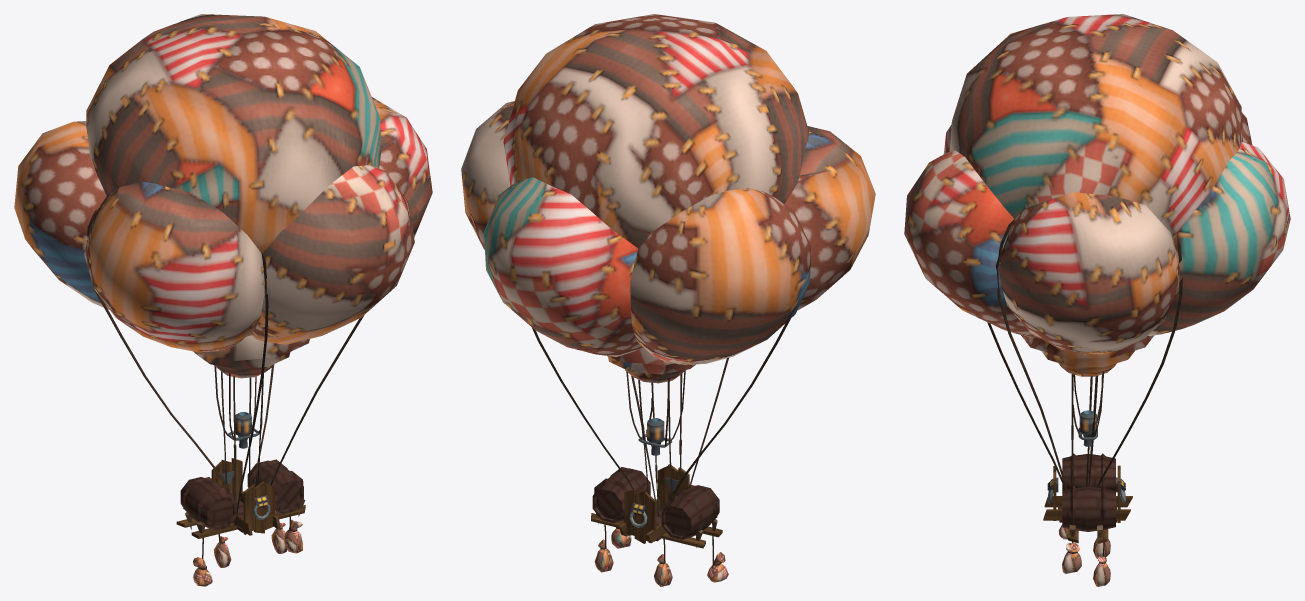
Rendered from Globe_A.fbx.
3 views of the same model, side by side, from view 1: azimuth 30°, elevation 25°; view 2: azimuth 150°, elevation 25°; view 3: azimuth 270°, elevation 25° (orthographic). The views are drawn at different scales.
Parts seen in each view (by area): view 1: Globe_A; view 2: Globe_A; view 3: Globe_A.
Part boxes in pixels (<box>): Globe_A: <box>14,14,432,586</box>; Globe_A: <box>461,14,875,586</box>; Globe_A: <box>904,14,1290,586</box>.
Size of the model in its own units: 1846 by 2650 by 1753.
